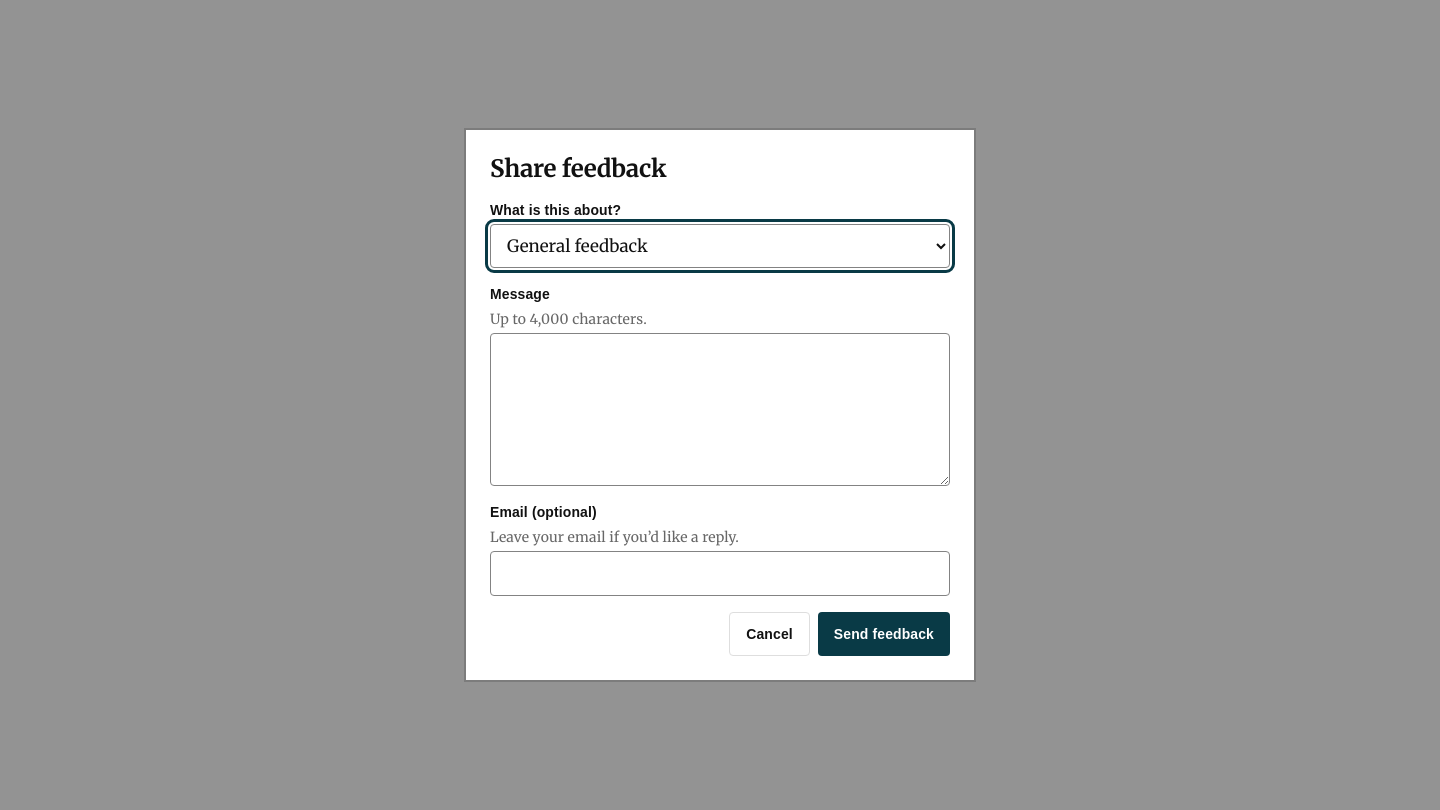
Test: FeedbackModal › submits the message, honeypot, and startedAt, and shows a thank-you on success
Type "The link is broken." into the text box labelled "Message" at (720, 410), box [490,333,950,486]
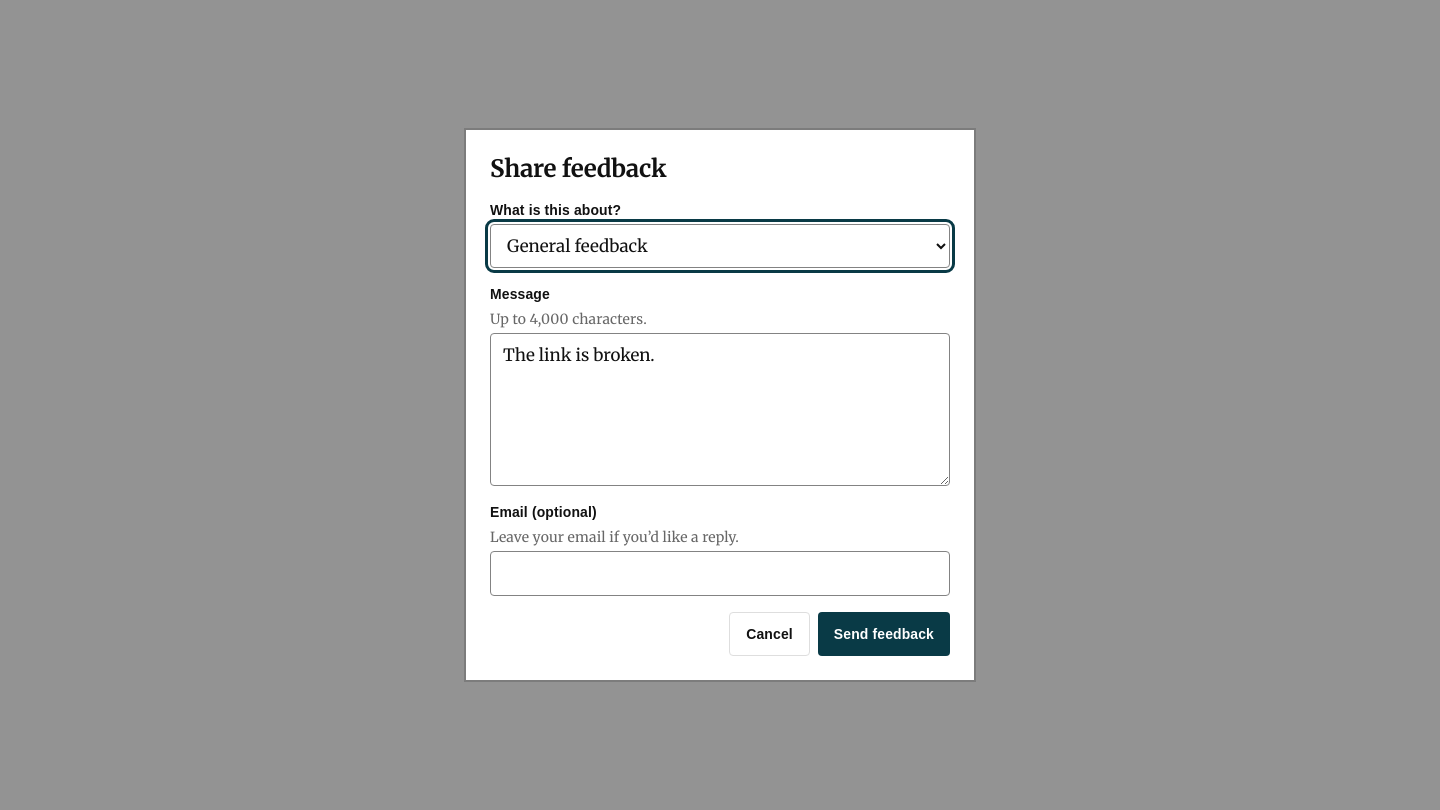
Click the button "Send feedback" at (884, 634), box [818,612,950,656]
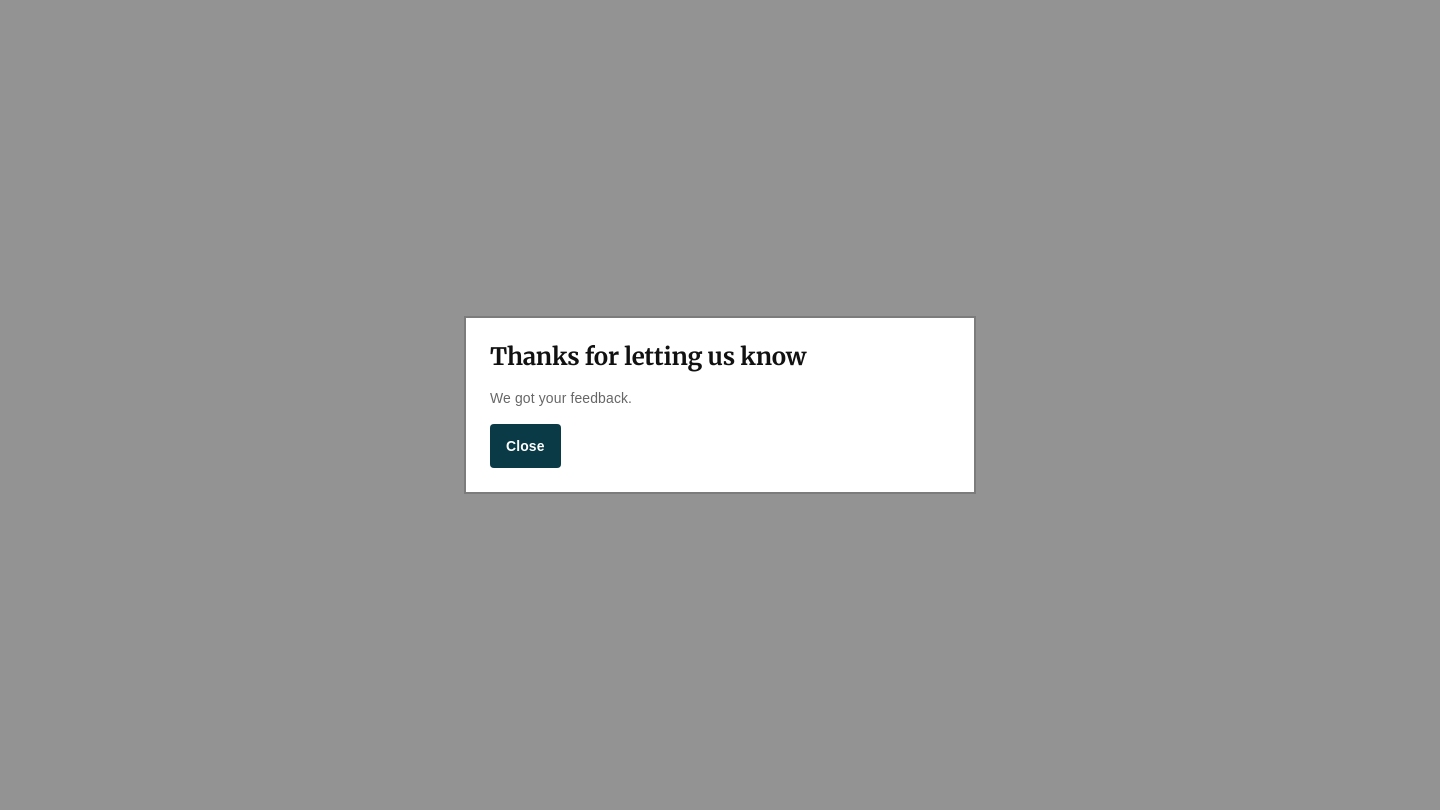
Check: the heading "Thanks for letting us know" is shown, box [490,341,806,372]
